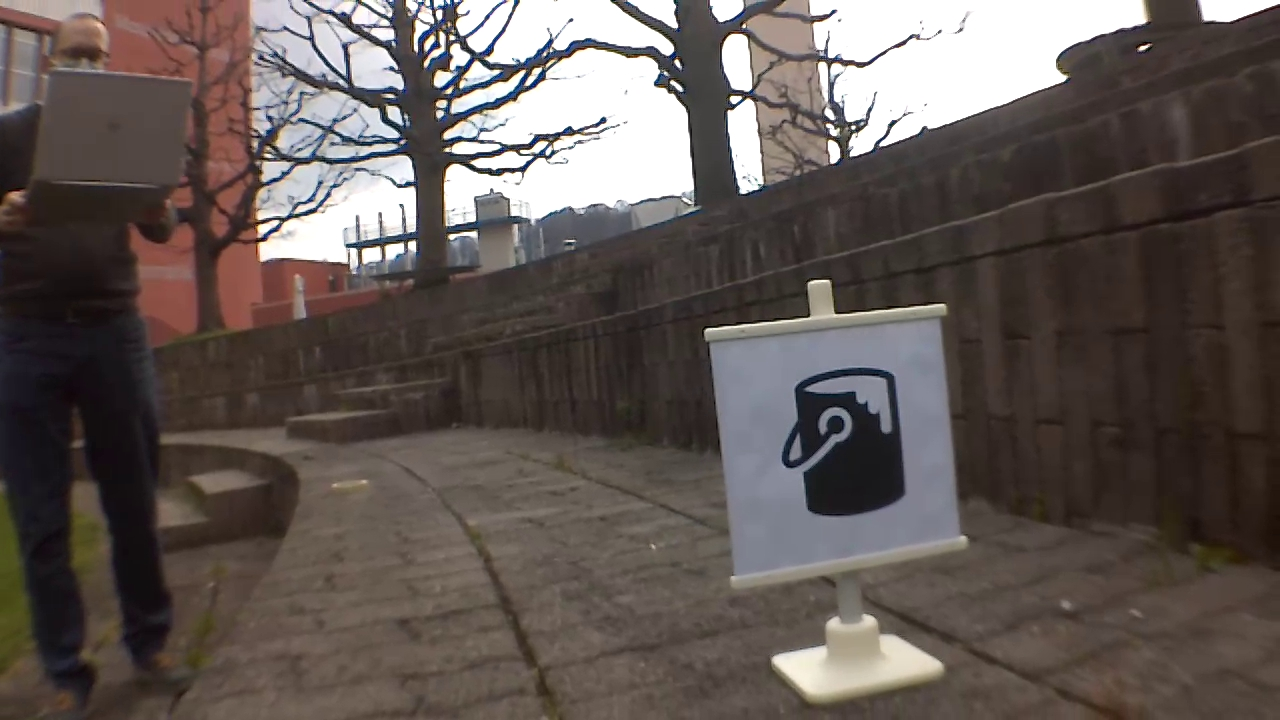bucket: (777, 365, 902, 522)
